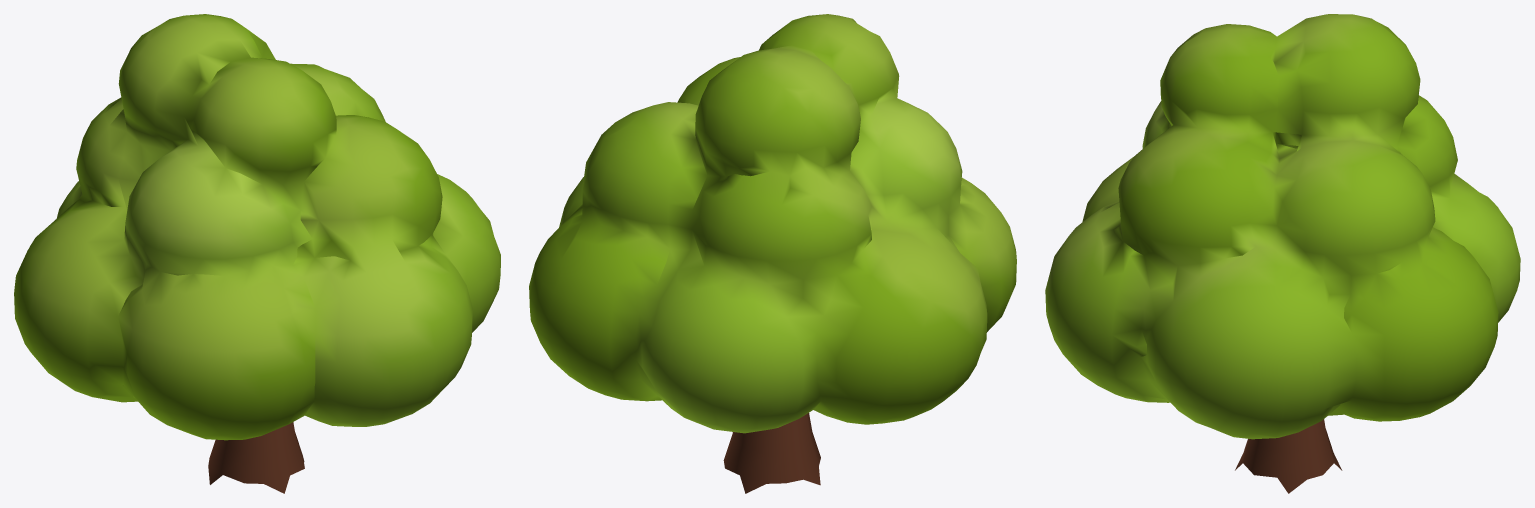
Rendered from pine-tree-116-lod1.obj.
3 views of the same model, side by side, from view 1: azimuth 30°, elevation 25°; view 2: azimuth 150°, elevation 25°; view 3: azimuth 270°, elevation 25° (orthographic).
Visible parts, largest first — view 1: simplified; view 2: simplified; view 3: simplified.
Boxes of the visible parts, bbox=[...] form: simplified: bbox=[14, 14, 500, 493]; simplified: bbox=[529, 14, 1016, 493]; simplified: bbox=[1045, 14, 1520, 493].
Bounding box in the file's own units: 230 × 228 × 225.
